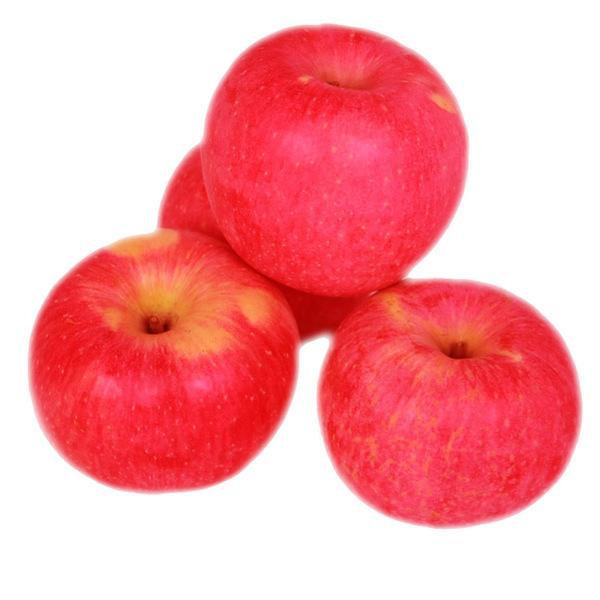apple: (191, 27, 471, 303), (28, 235, 306, 498), (317, 279, 580, 525)
